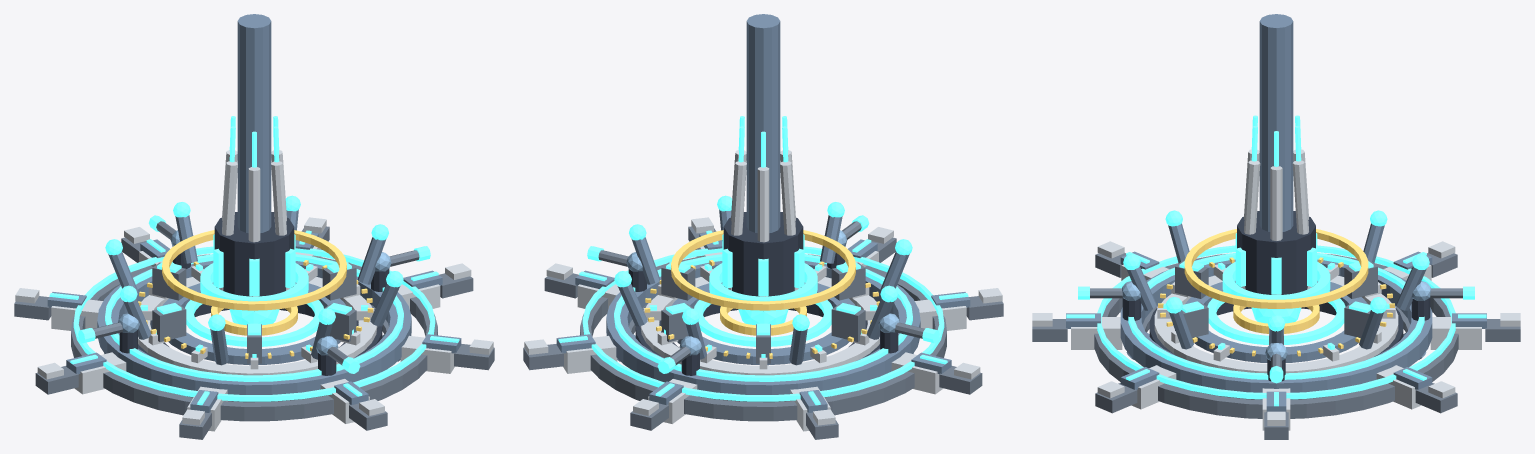
The model's file is relay_3_earth.glb.
The picture shows the model from 3 angles, left to right: view 1: azimuth 30°, elevation 25°; view 2: azimuth 150°, elevation 25°; view 3: azimuth 270°, elevation 25°; orthographic projection.
Visible parts, largest first — view 1: RLY_2, RLY_3, RLY_4, RLY_1, RLY_0, RLY_5, RLY_6; view 2: RLY_2, RLY_3, RLY_4, RLY_1, RLY_0, RLY_5, RLY_6; view 3: RLY_2, RLY_3, RLY_1, RLY_4, RLY_0, RLY_5, RLY_6.
Boxes of the visible parts, x1=… form: RLY_2: x1=47, y1=14, x2=461, y2=412; RLY_3: x1=49, y1=116, x2=459, y2=405; RLY_4: x1=14, y1=221, x2=494, y2=439; RLY_1: x1=15, y1=150, x2=493, y2=431; RLY_0: x1=119, y1=212, x2=389, y2=375; RLY_5: x1=138, y1=230, x2=373, y2=358; RLY_6: x1=118, y1=230, x2=391, y2=355; RLY_2: x1=556, y1=14, x2=970, y2=412; RLY_3: x1=558, y1=116, x2=968, y2=405; RLY_4: x1=523, y1=221, x2=1003, y2=439; RLY_1: x1=524, y1=150, x2=1002, y2=431; RLY_0: x1=628, y1=212, x2=898, y2=375; RLY_5: x1=644, y1=230, x2=879, y2=358; RLY_6: x1=626, y1=230, x2=899, y2=355; RLY_2: x1=1066, y1=14, x2=1486, y2=412; RLY_3: x1=1066, y1=115, x2=1486, y2=406; RLY_1: x1=1032, y1=149, x2=1520, y2=430; RLY_4: x1=1032, y1=253, x2=1520, y2=439; RLY_0: x1=1122, y1=211, x2=1430, y2=381; RLY_5: x1=1158, y1=229, x2=1394, y2=356; RLY_6: x1=1122, y1=281, x2=1430, y2=360.
Bounding box in the file's own units: 10.48 × 8.01 × 10.48.
